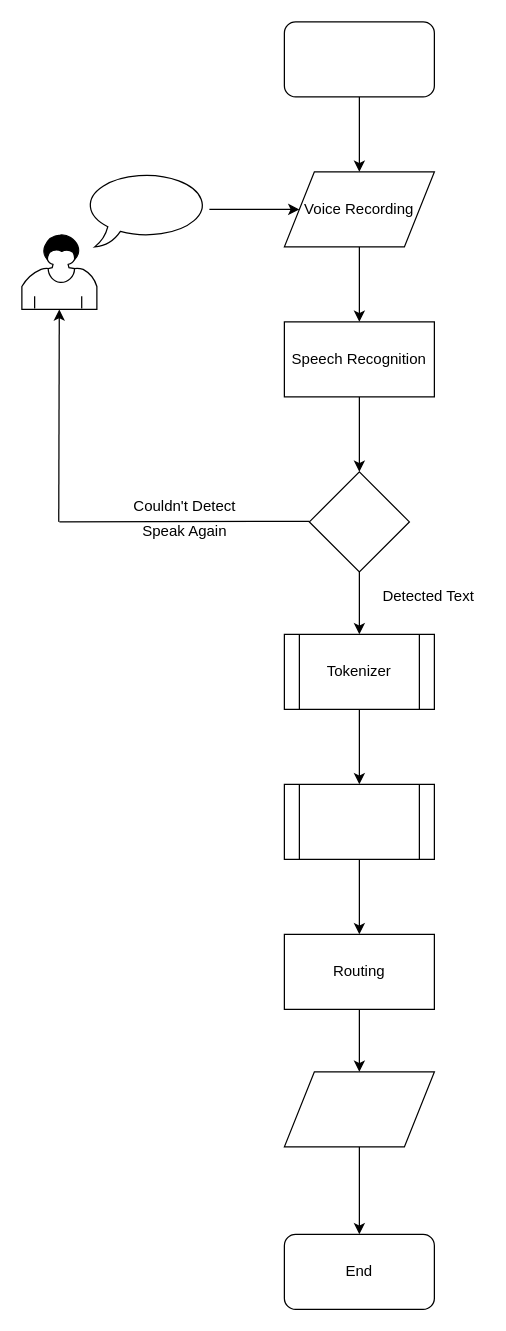
This 506x1331 diagram has some shape labels left out. The centre of each missing label's shape, as x and y in pixels:
Map Display: point (358, 1109)
Model: point (358, 821)
Start: point (358, 59)
